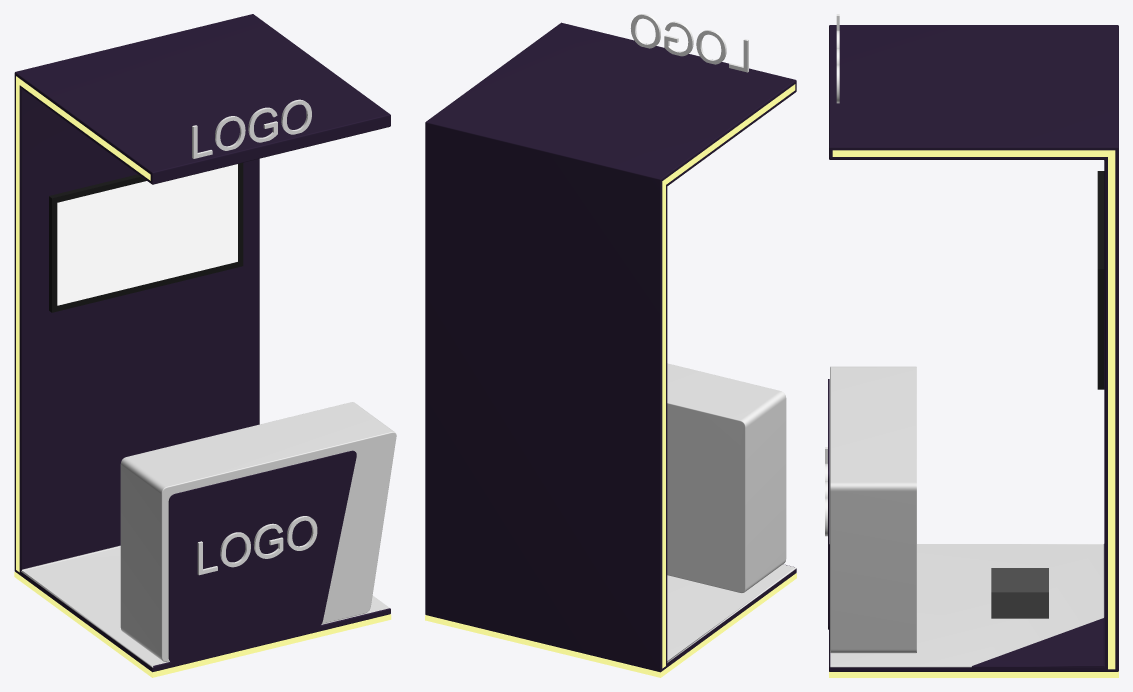
The model's file is characterr.glb.
3 renders of one model, left to right at view 1: azimuth 30°, elevation 25°; view 2: azimuth 150°, elevation 25°; view 3: azimuth 270°, elevation 25°, orthographic. The views are drawn at different scales.
Parts seen in each view (by area): view 1: Rectangle004, Box007, Box006, Box008, Box005, TextPlus001, TextPlus002; view 2: Rectangle004, Box006, Box005, TextPlus002; view 3: Rectangle004, Box006, Chair_38-05_002, Box008, Box005, Box007.
Boxes of the visible parts, x1=… form: Rectangle004: x1=14, y1=14, x2=390, y2=672; Box007: x1=168, y1=450, x2=356, y2=663; Box006: x1=120, y1=402, x2=396, y2=661; Box008: x1=49, y1=163, x2=243, y2=312; Box005: x1=14, y1=572, x2=391, y2=677; TextPlus001: x1=197, y1=516, x2=317, y2=575; TextPlus002: x1=192, y1=99, x2=311, y2=158; Rectangle004: x1=425, y1=22, x2=796, y2=672; Box006: x1=667, y1=363, x2=786, y2=593; Box005: x1=425, y1=573, x2=796, y2=677; TextPlus002: x1=630, y1=14, x2=748, y2=72; Rectangle004: x1=829, y1=25, x2=1118, y2=671; Box006: x1=830, y1=366, x2=916, y2=653; Chair_38-05_002: x1=991, y1=568, x2=1048, y2=618; Box008: x1=1097, y1=171, x2=1104, y2=389; Box005: x1=829, y1=671, x2=1118, y2=677; Box007: x1=828, y1=379, x2=829, y2=629.
Size of the model in its own units: 103 by 221 by 101.
